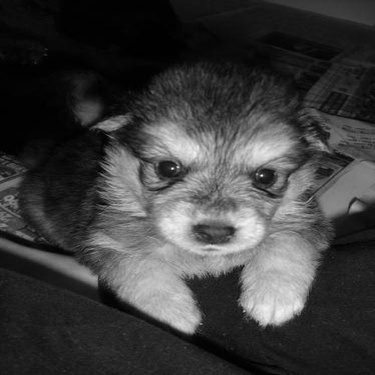dog: (17, 56, 335, 341)
